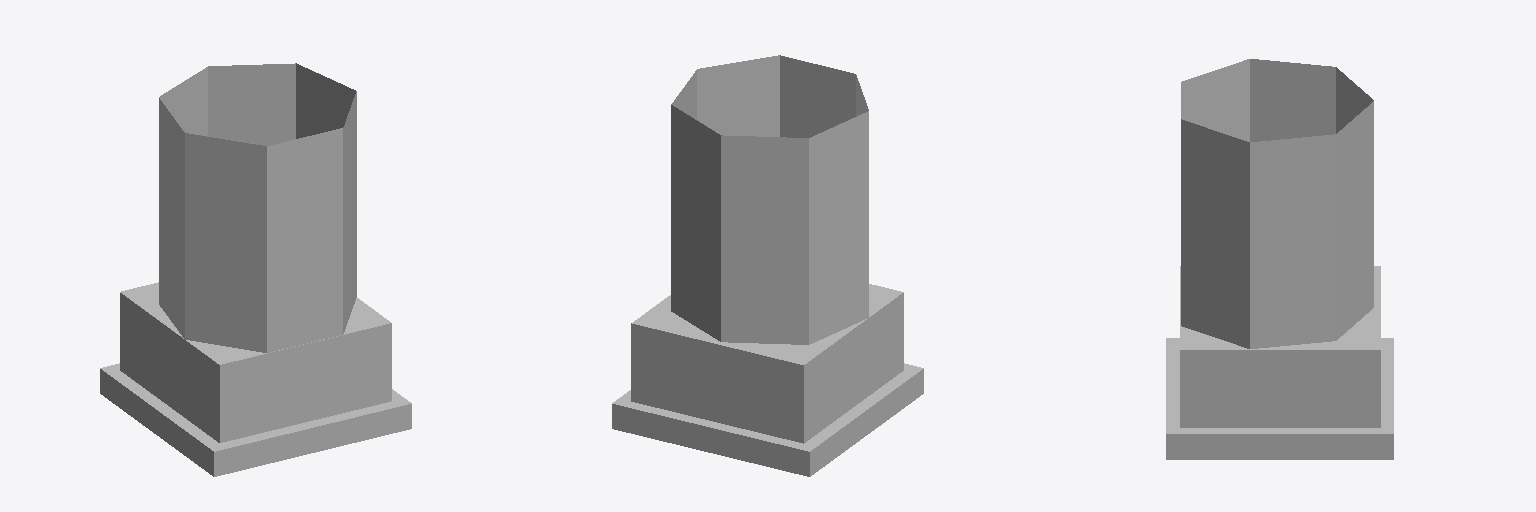
Rendered from satellite_assembler.obj.
3 views of the same model, side by side, from view 1: azimuth 30°, elevation 25°; view 2: azimuth 150°, elevation 25°; view 3: azimuth 270°, elevation 25° (orthographic).
Parts seen in each view (by area): view 1: fab_lab, constructor, base; view 2: fab_lab, constructor, base; view 3: fab_lab, constructor, base.
Boxes of the visible parts, x1,y1,x2,y2 form: fab_lab: [159, 63, 356, 352]; constructor: [120, 282, 391, 442]; base: [100, 363, 411, 476]; fab_lab: [671, 55, 868, 344]; constructor: [631, 284, 903, 443]; base: [612, 363, 923, 476]; fab_lab: [1181, 59, 1373, 348]; constructor: [1180, 266, 1380, 427]; base: [1166, 338, 1393, 459].
Bounding box in the file's own units: 2 × 3 × 2.